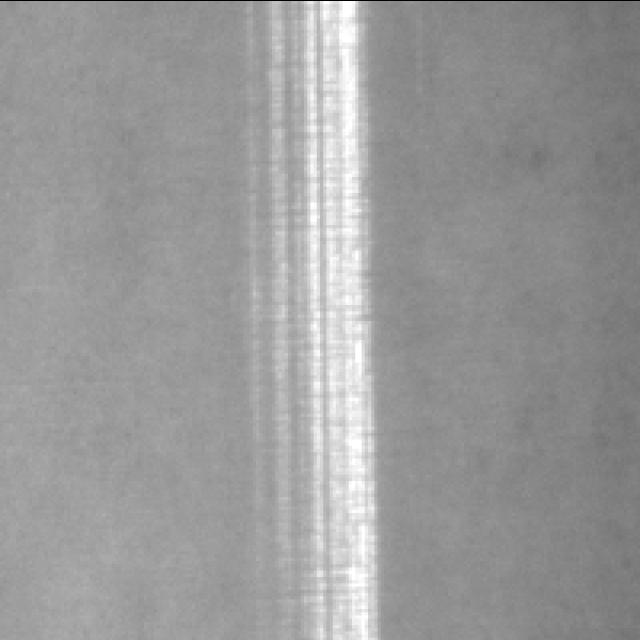scratches: (238, 0, 380, 640)
